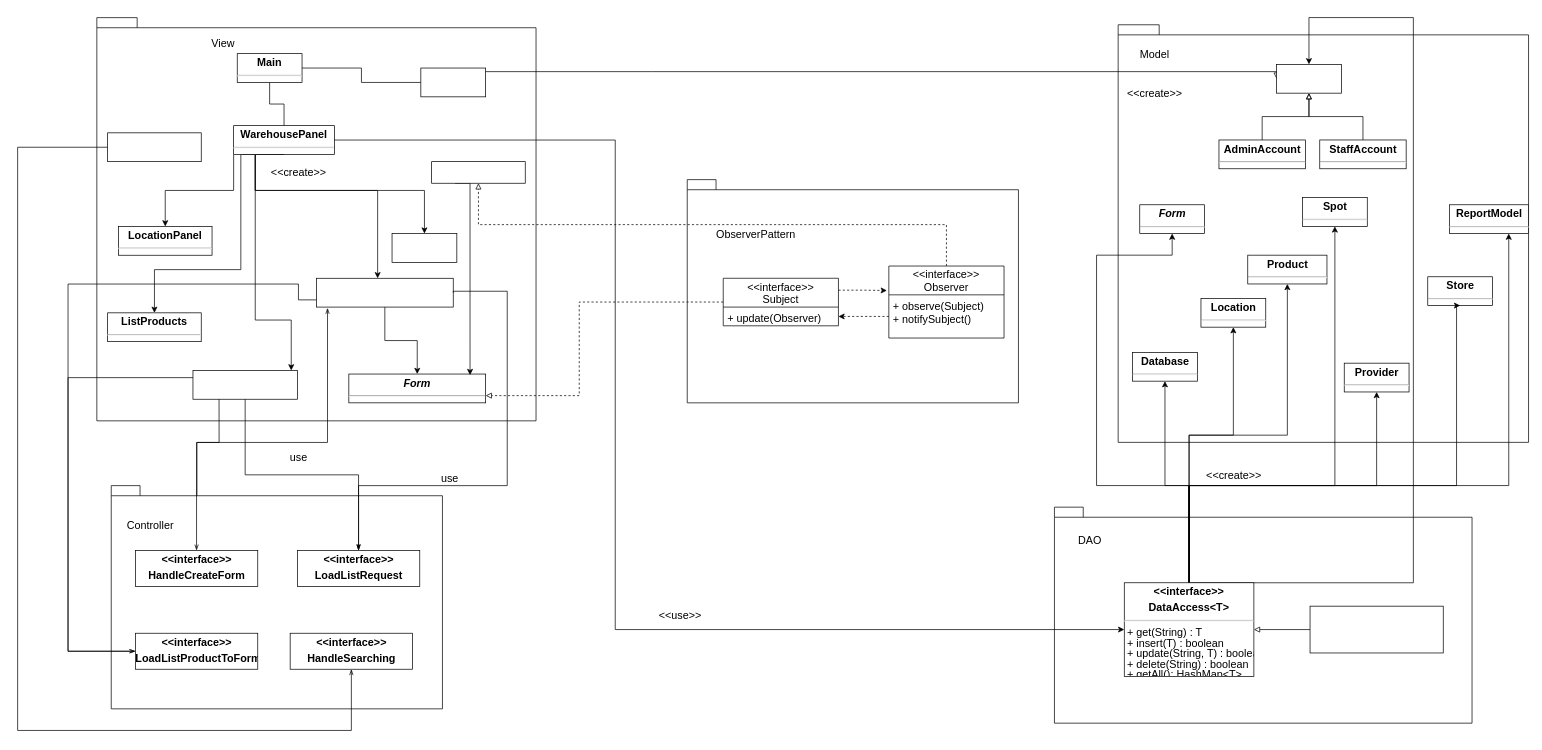
The diagram is 1542 pixels wide and 750 high, and some of its shapes have lost their labels. The centre of each missing label's shape, as x and y in pixels:
"<<interface>> FormDAO<T>" belongs at point (1376, 629).
"Account" belongs at point (1308, 78).
"InpProductData" belongs at point (478, 172).
"ListRequestsInPanel" belongs at point (384, 292).
"ListRequestsPanel" belongs at point (244, 384).
"Login" belongs at point (453, 82).
"LookUpPanel" belongs at point (154, 147).
"Report" belongs at point (424, 247).
